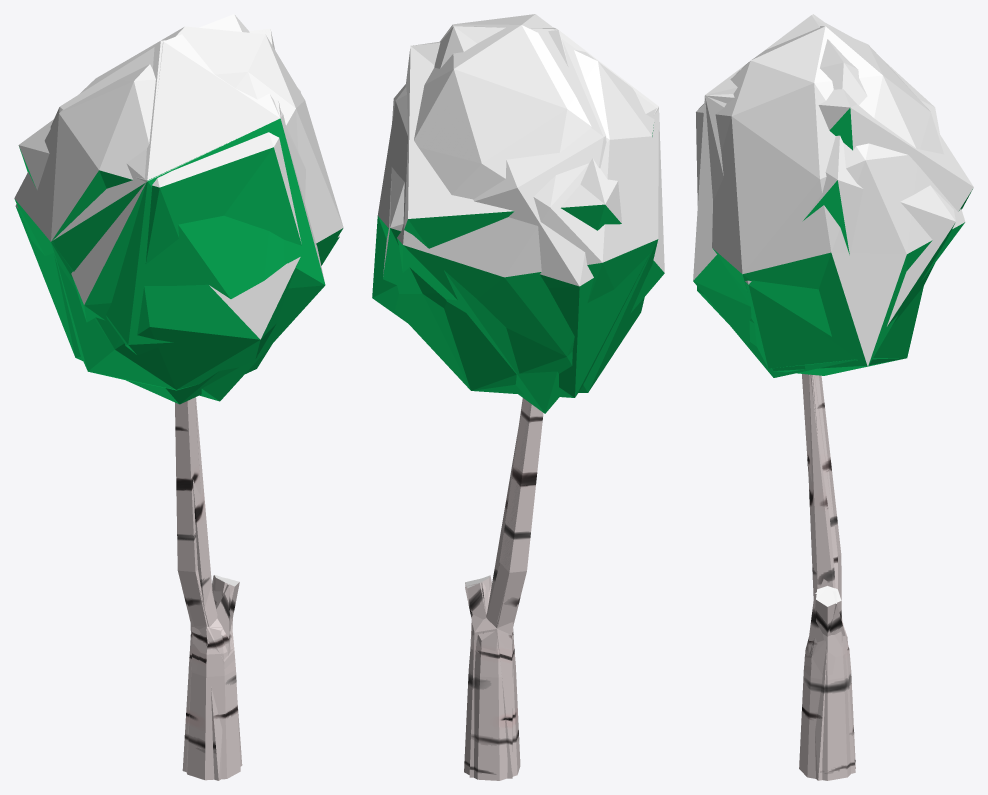
Rendered from V2_Birch_2_Snowy.fbx.
The picture shows the model from 3 angles, left to right: view 1: azimuth 30°, elevation 25°; view 2: azimuth 150°, elevation 25°; view 3: azimuth 270°, elevation 25°; orthographic projection. The views are drawn at different scales.
Parts seen in each view (by area): view 1: V2 Birch 2_LOD0_Snowy, V2 Birch 2_LOD2_Snowy, V2 Birch 2_LOD3_Snowy, V2 Birch 2_LOD1_Snowy; view 2: V2 Birch 2_LOD0_Snowy, V2 Birch 2_LOD2_Snowy, V2 Birch 2_LOD3_Snowy, V2 Birch 2_LOD1_Snowy; view 3: V2 Birch 2_LOD0_Snowy, V2 Birch 2_LOD2_Snowy, V2 Birch 2_LOD3_Snowy, V2 Birch 2_LOD1_Snowy.
Boxes of the visible parts, x1,y1,x2,y2 form: V2 Birch 2_LOD0_Snowy: [14, 26, 343, 780]; V2 Birch 2_LOD2_Snowy: [15, 14, 339, 671]; V2 Birch 2_LOD3_Snowy: [18, 28, 325, 780]; V2 Birch 2_LOD1_Snowy: [56, 260, 234, 669]; V2 Birch 2_LOD0_Snowy: [372, 14, 658, 780]; V2 Birch 2_LOD2_Snowy: [383, 26, 658, 670]; V2 Birch 2_LOD3_Snowy: [404, 30, 664, 778]; V2 Birch 2_LOD1_Snowy: [468, 260, 648, 670]; V2 Birch 2_LOD0_Snowy: [696, 26, 965, 780]; V2 Birch 2_LOD2_Snowy: [705, 15, 955, 675]; V2 Birch 2_LOD3_Snowy: [693, 14, 973, 780]; V2 Birch 2_LOD1_Snowy: [805, 375, 847, 675].
Size of the model in its own units: 300 by 817 by 285.
